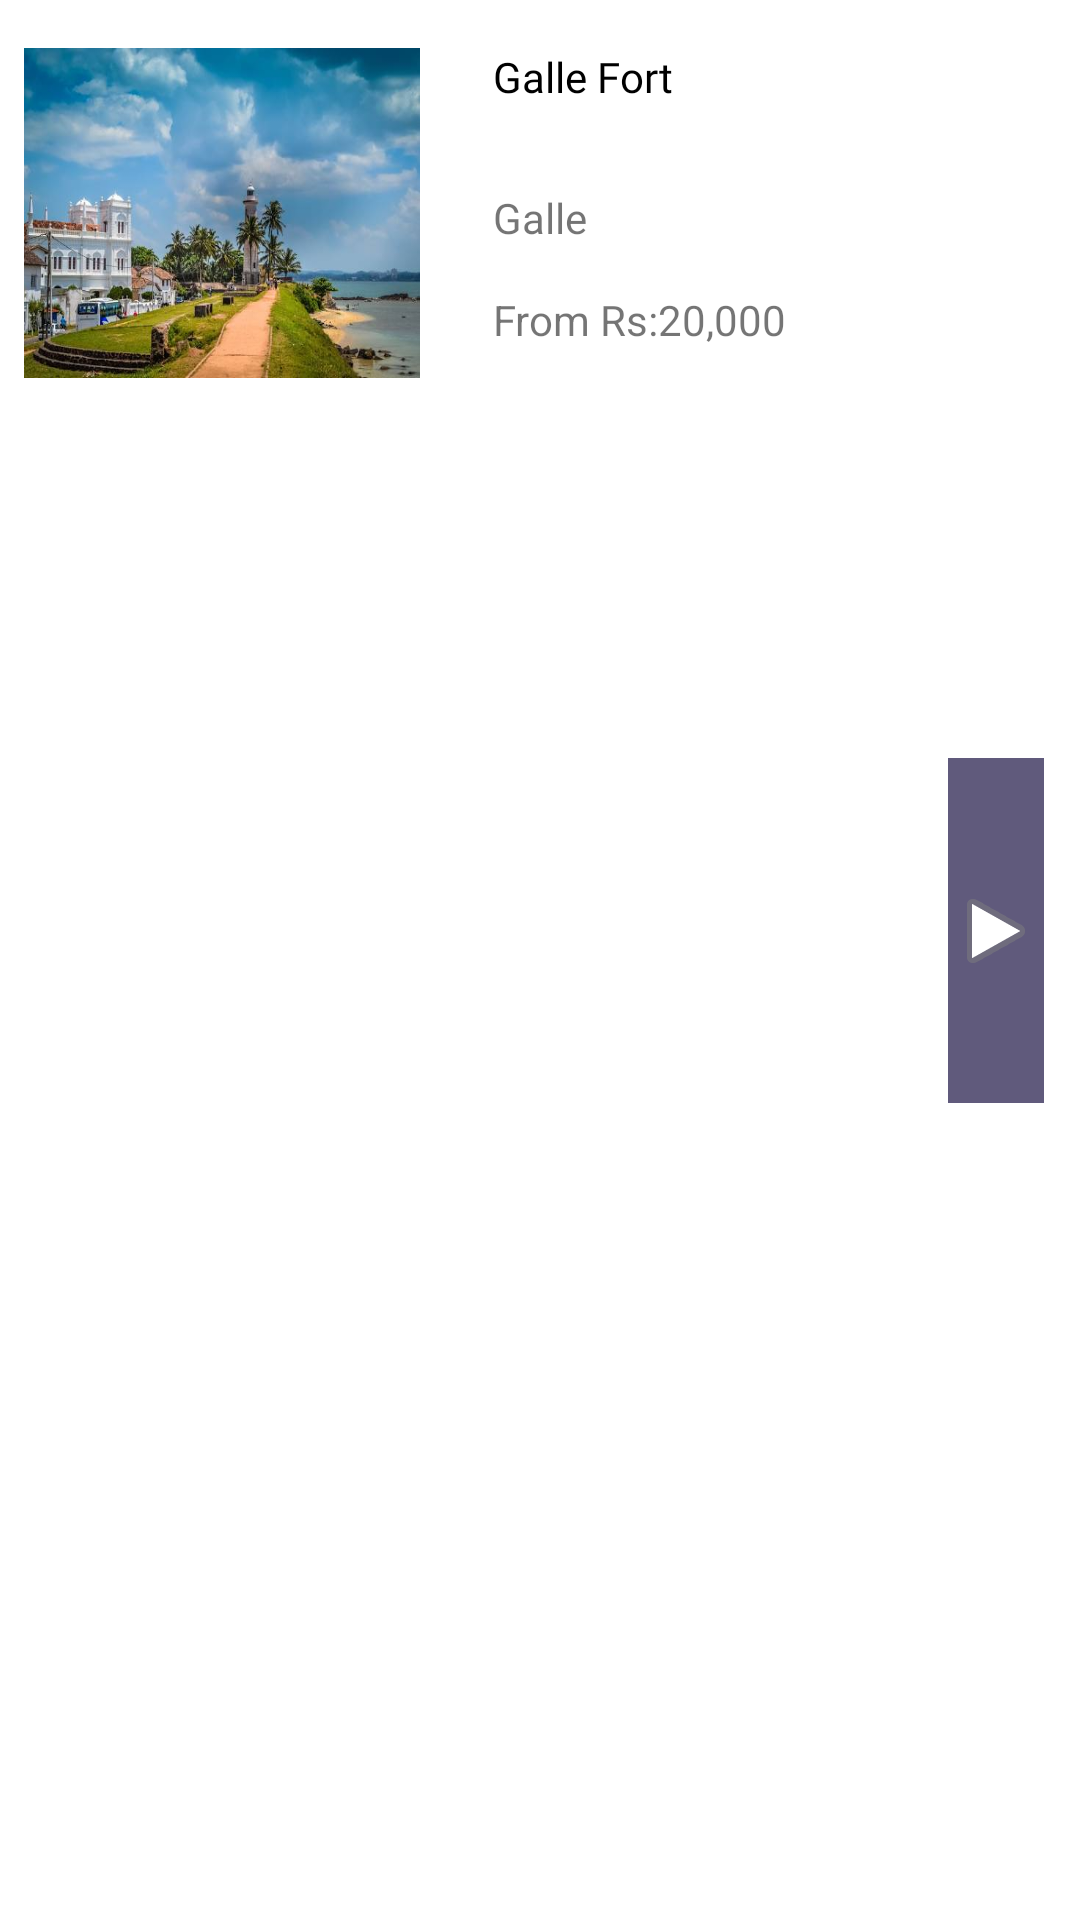

Named icons in this screenshot (1080×1920) and their bounding boxes, [x1,y1,x2,y2]:
play: [948,758,1044,1103]
